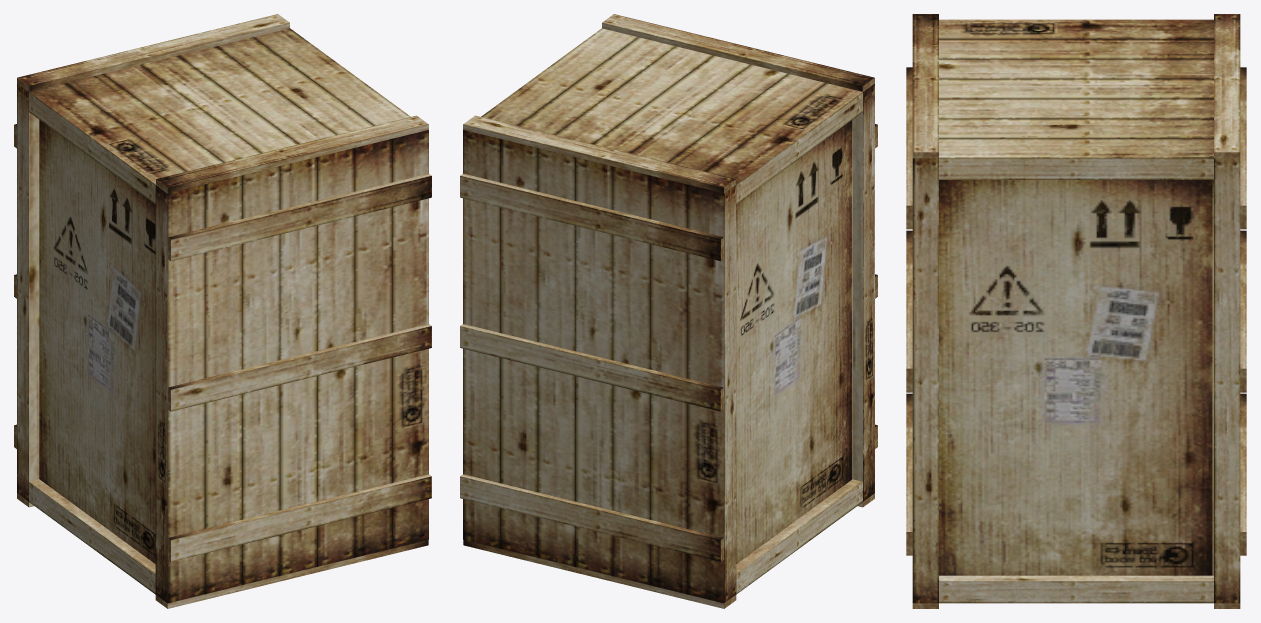
The model's file is woodcrate.fbx.
3 renders of one model, left to right at view 1: azimuth 30°, elevation 25°; view 2: azimuth 150°, elevation 25°; view 3: azimuth 270°, elevation 25°, orthographic. The views are drawn at different scales.
Visible parts, largest first — view 1: mesh_0; view 2: mesh_0; view 3: mesh_0.
Boxes of the visible parts, <box> form: mesh_0: <box>14,14,431,608</box>; mesh_0: <box>460,14,877,608</box>; mesh_0: <box>906,14,1246,608</box>.
Size of the model in its own units: 100 by 154 by 104.
Materials: 1 (1 with a texture image).
